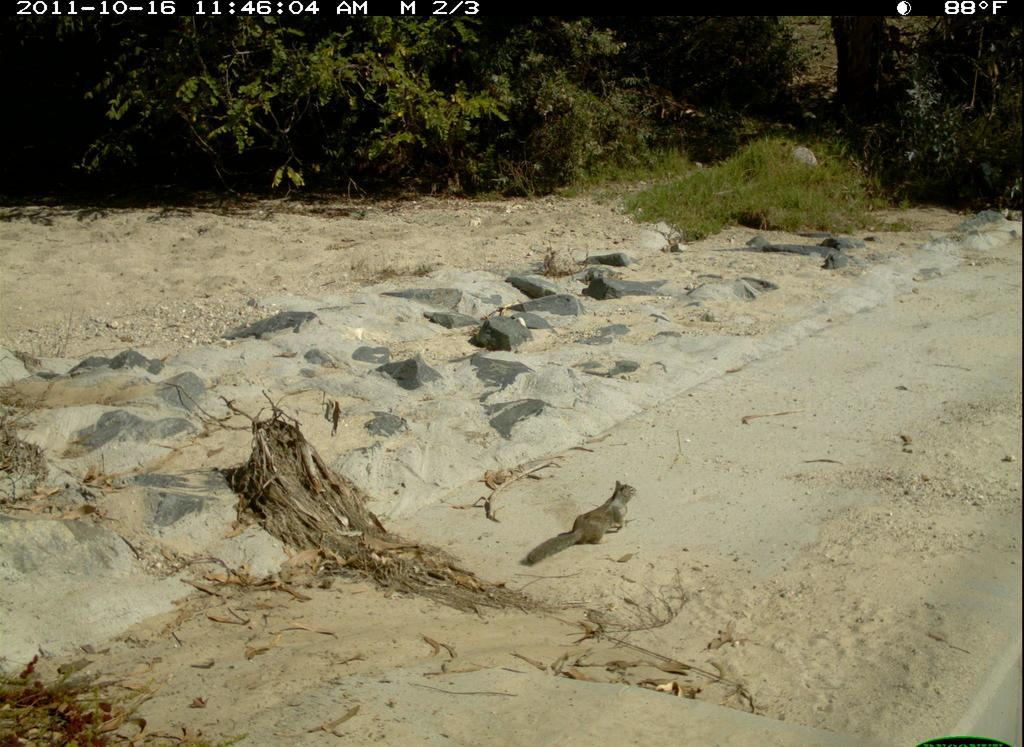squirrel: (511, 481, 644, 575)
